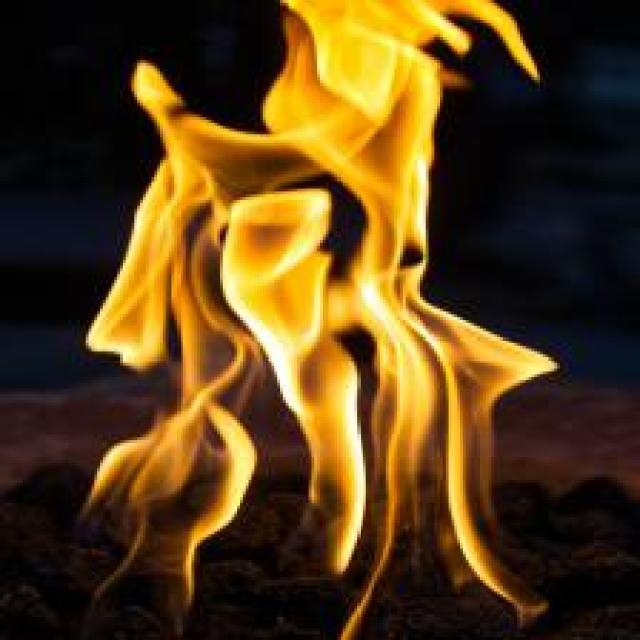Fire: (88, 1, 565, 640)
